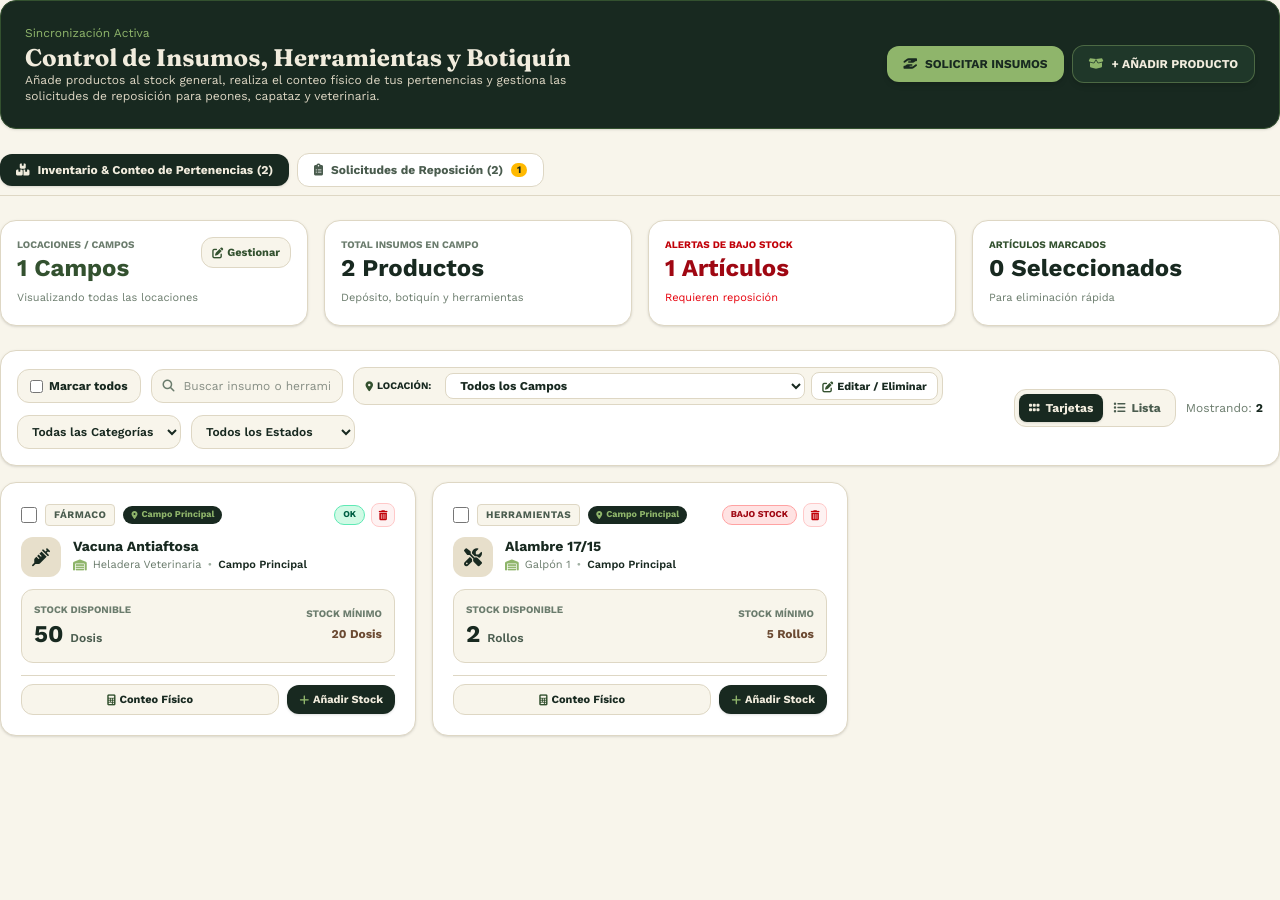
Test: Vista de Inventario e Insumos (InsumosView.jsx) › en Solicitudes de Reposición permite denegar, marcar todas y eliminar en lote
The width and height of the screenshot is (1280, 900).
Expected: the heading "Vacuna Antiaftosa" is shown, top-left (73, 538), bottom-right (198, 554)
Click the button "Solicitudes de Reposición (2) 1" at (421,170), box top-left (297, 153), bottom-right (544, 187)
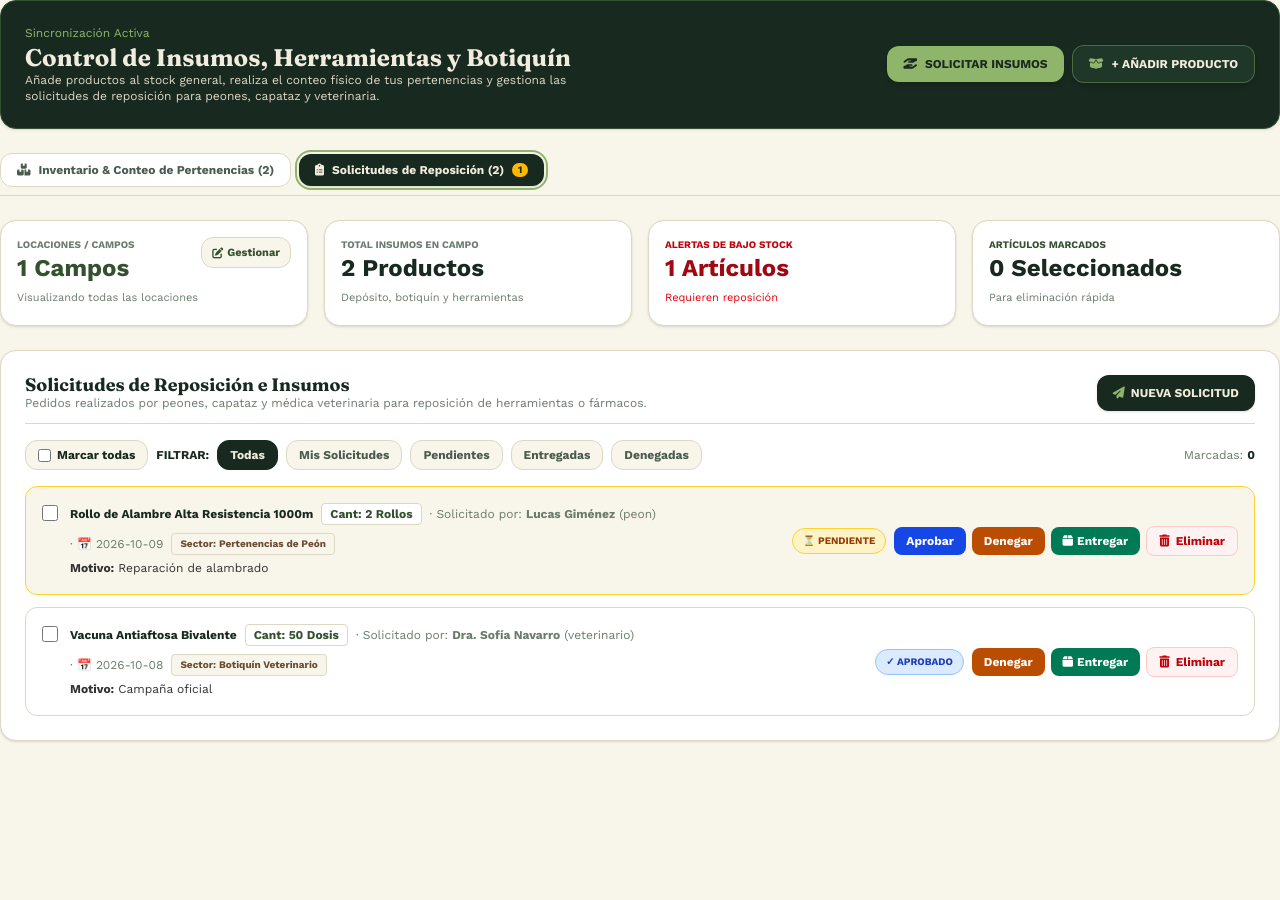
Expected: the text "Rollo de Alambre Alta Resistencia 1000m" is shown, top-left (70, 506), bottom-right (313, 522)
Note: Denegar la primera solicitud
Click the button "Denegar" in the row of "⏳ Pendiente" at (1008,541), box top-left (972, 527), bottom-right (1045, 555)
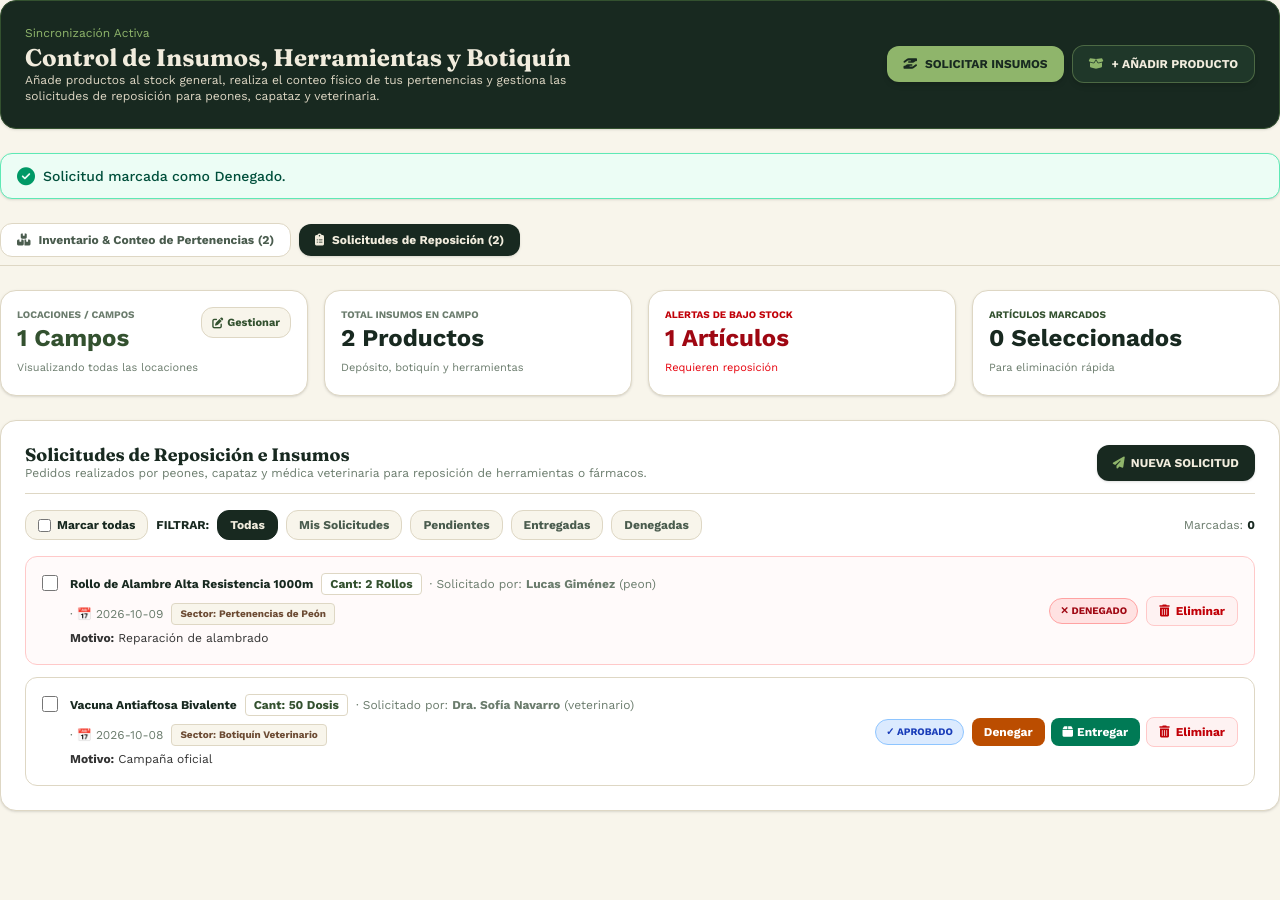
Expected: the text "✕ Denegado" is shown, top-left (1049, 598), bottom-right (1138, 624)
Note: Marcar todas y eliminar en lote
Click the checkbox labelled "Marcar todas" at (44,525), box top-left (38, 519), bottom-right (51, 532)
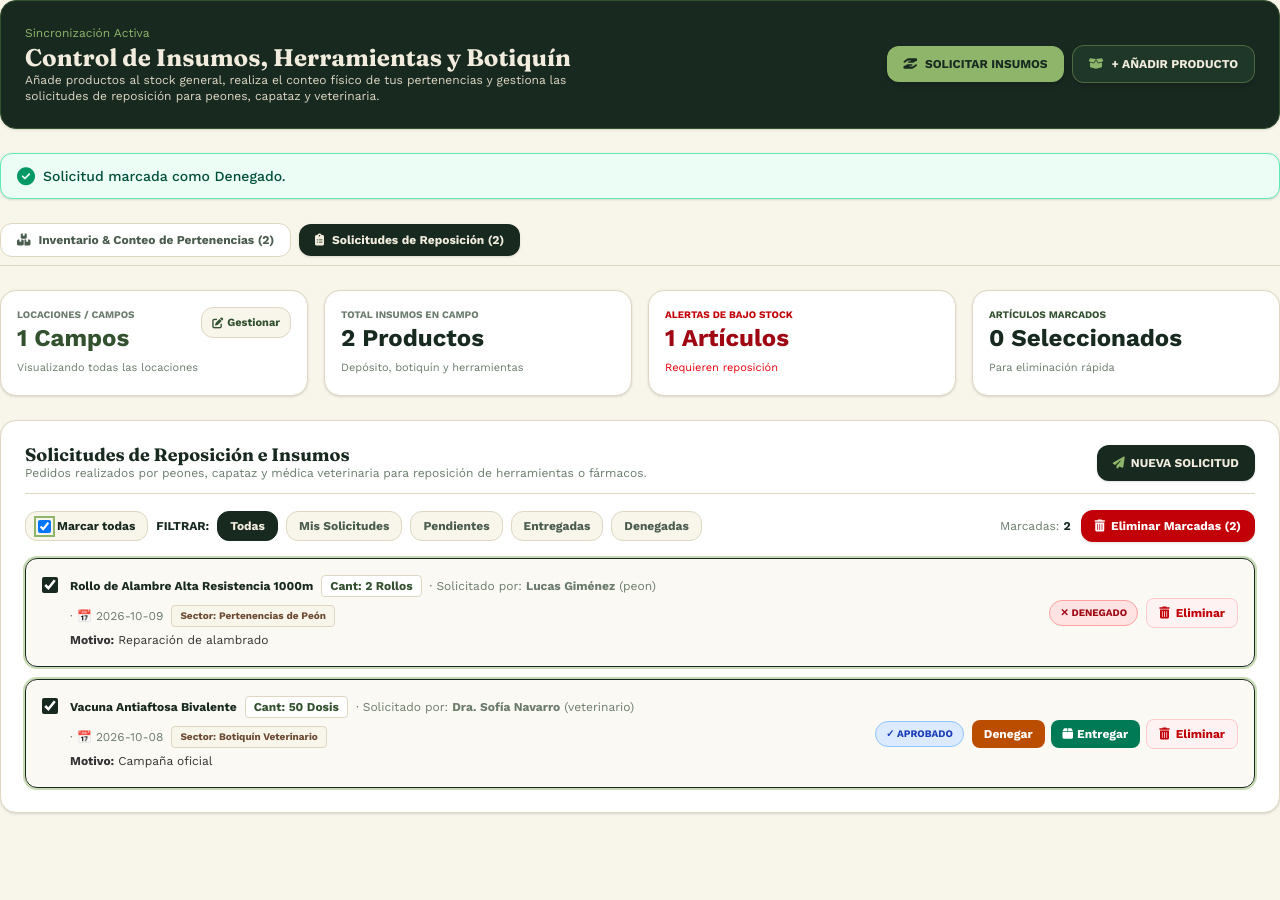
Click the button "Eliminar Marcadas (2)" at (1168,526), box top-left (1081, 510), bottom-right (1255, 542)
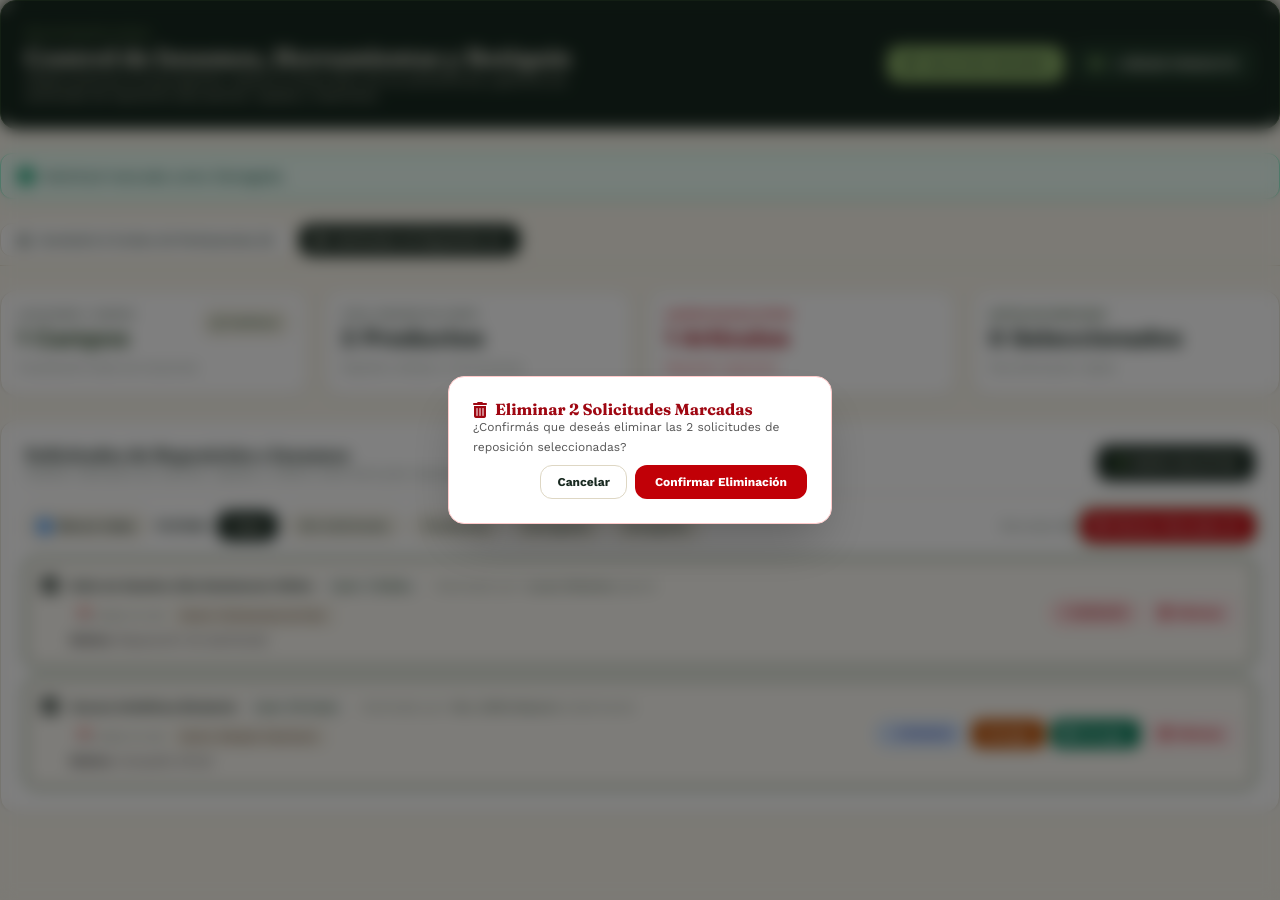
Expected: the heading "Eliminar 2 Solicitudes Marcadas" is shown, top-left (473, 398), bottom-right (753, 418)
Click the button "Confirmar Eliminación" at (721,482), box top-left (635, 466), bottom-right (807, 500)
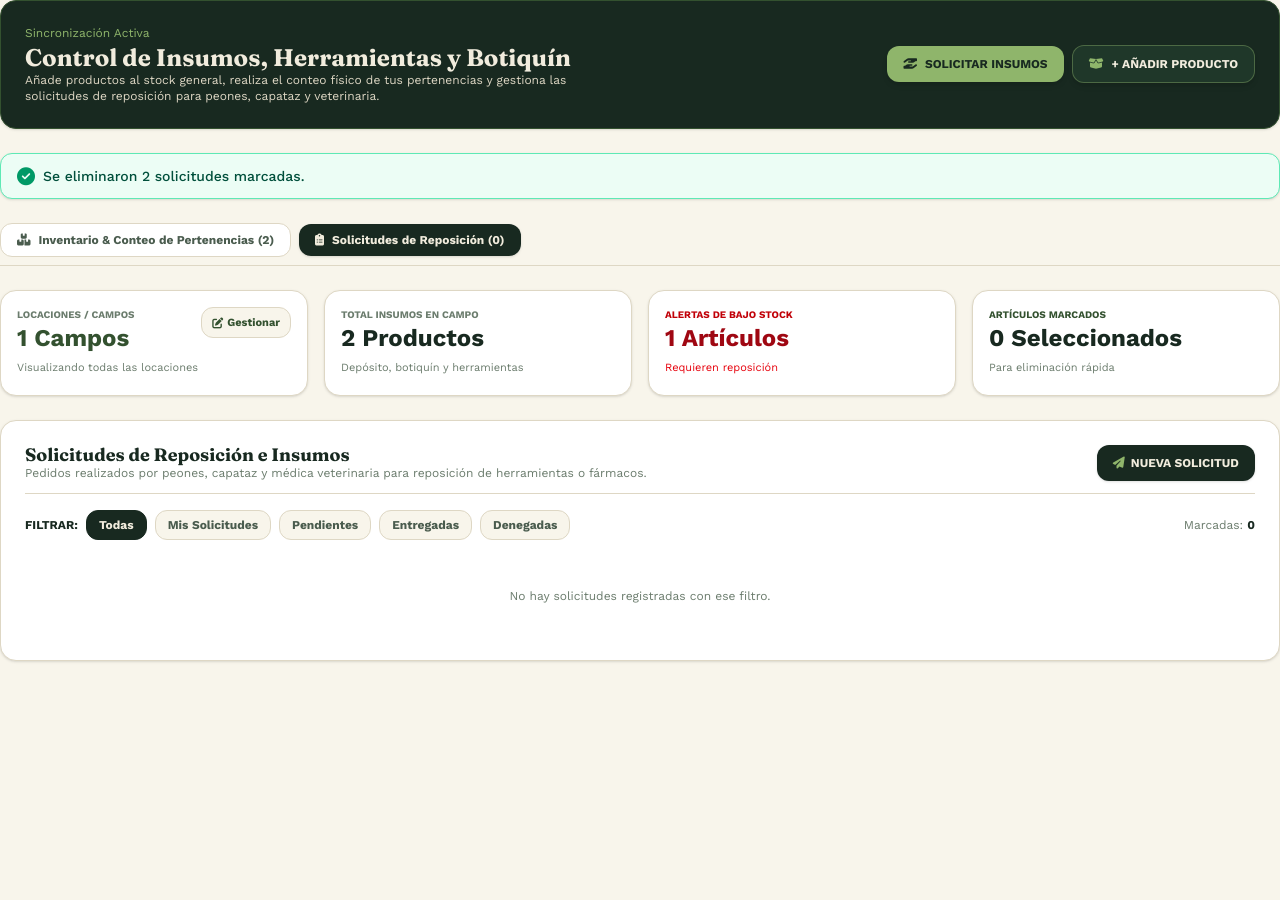
Expected: the text "Rollo de Alambre Alta Resistencia 1000m" is gone
Expected: the text "Vacuna Antiaftosa Bivalente" is gone
